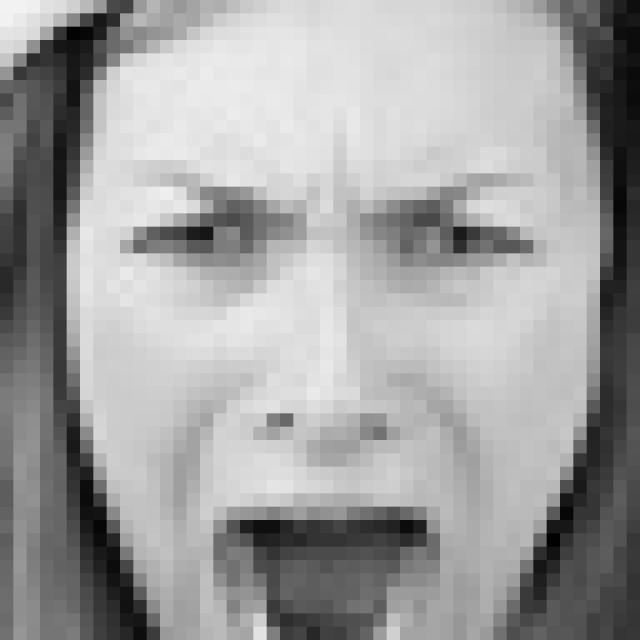angry: (108, 156, 552, 640)
